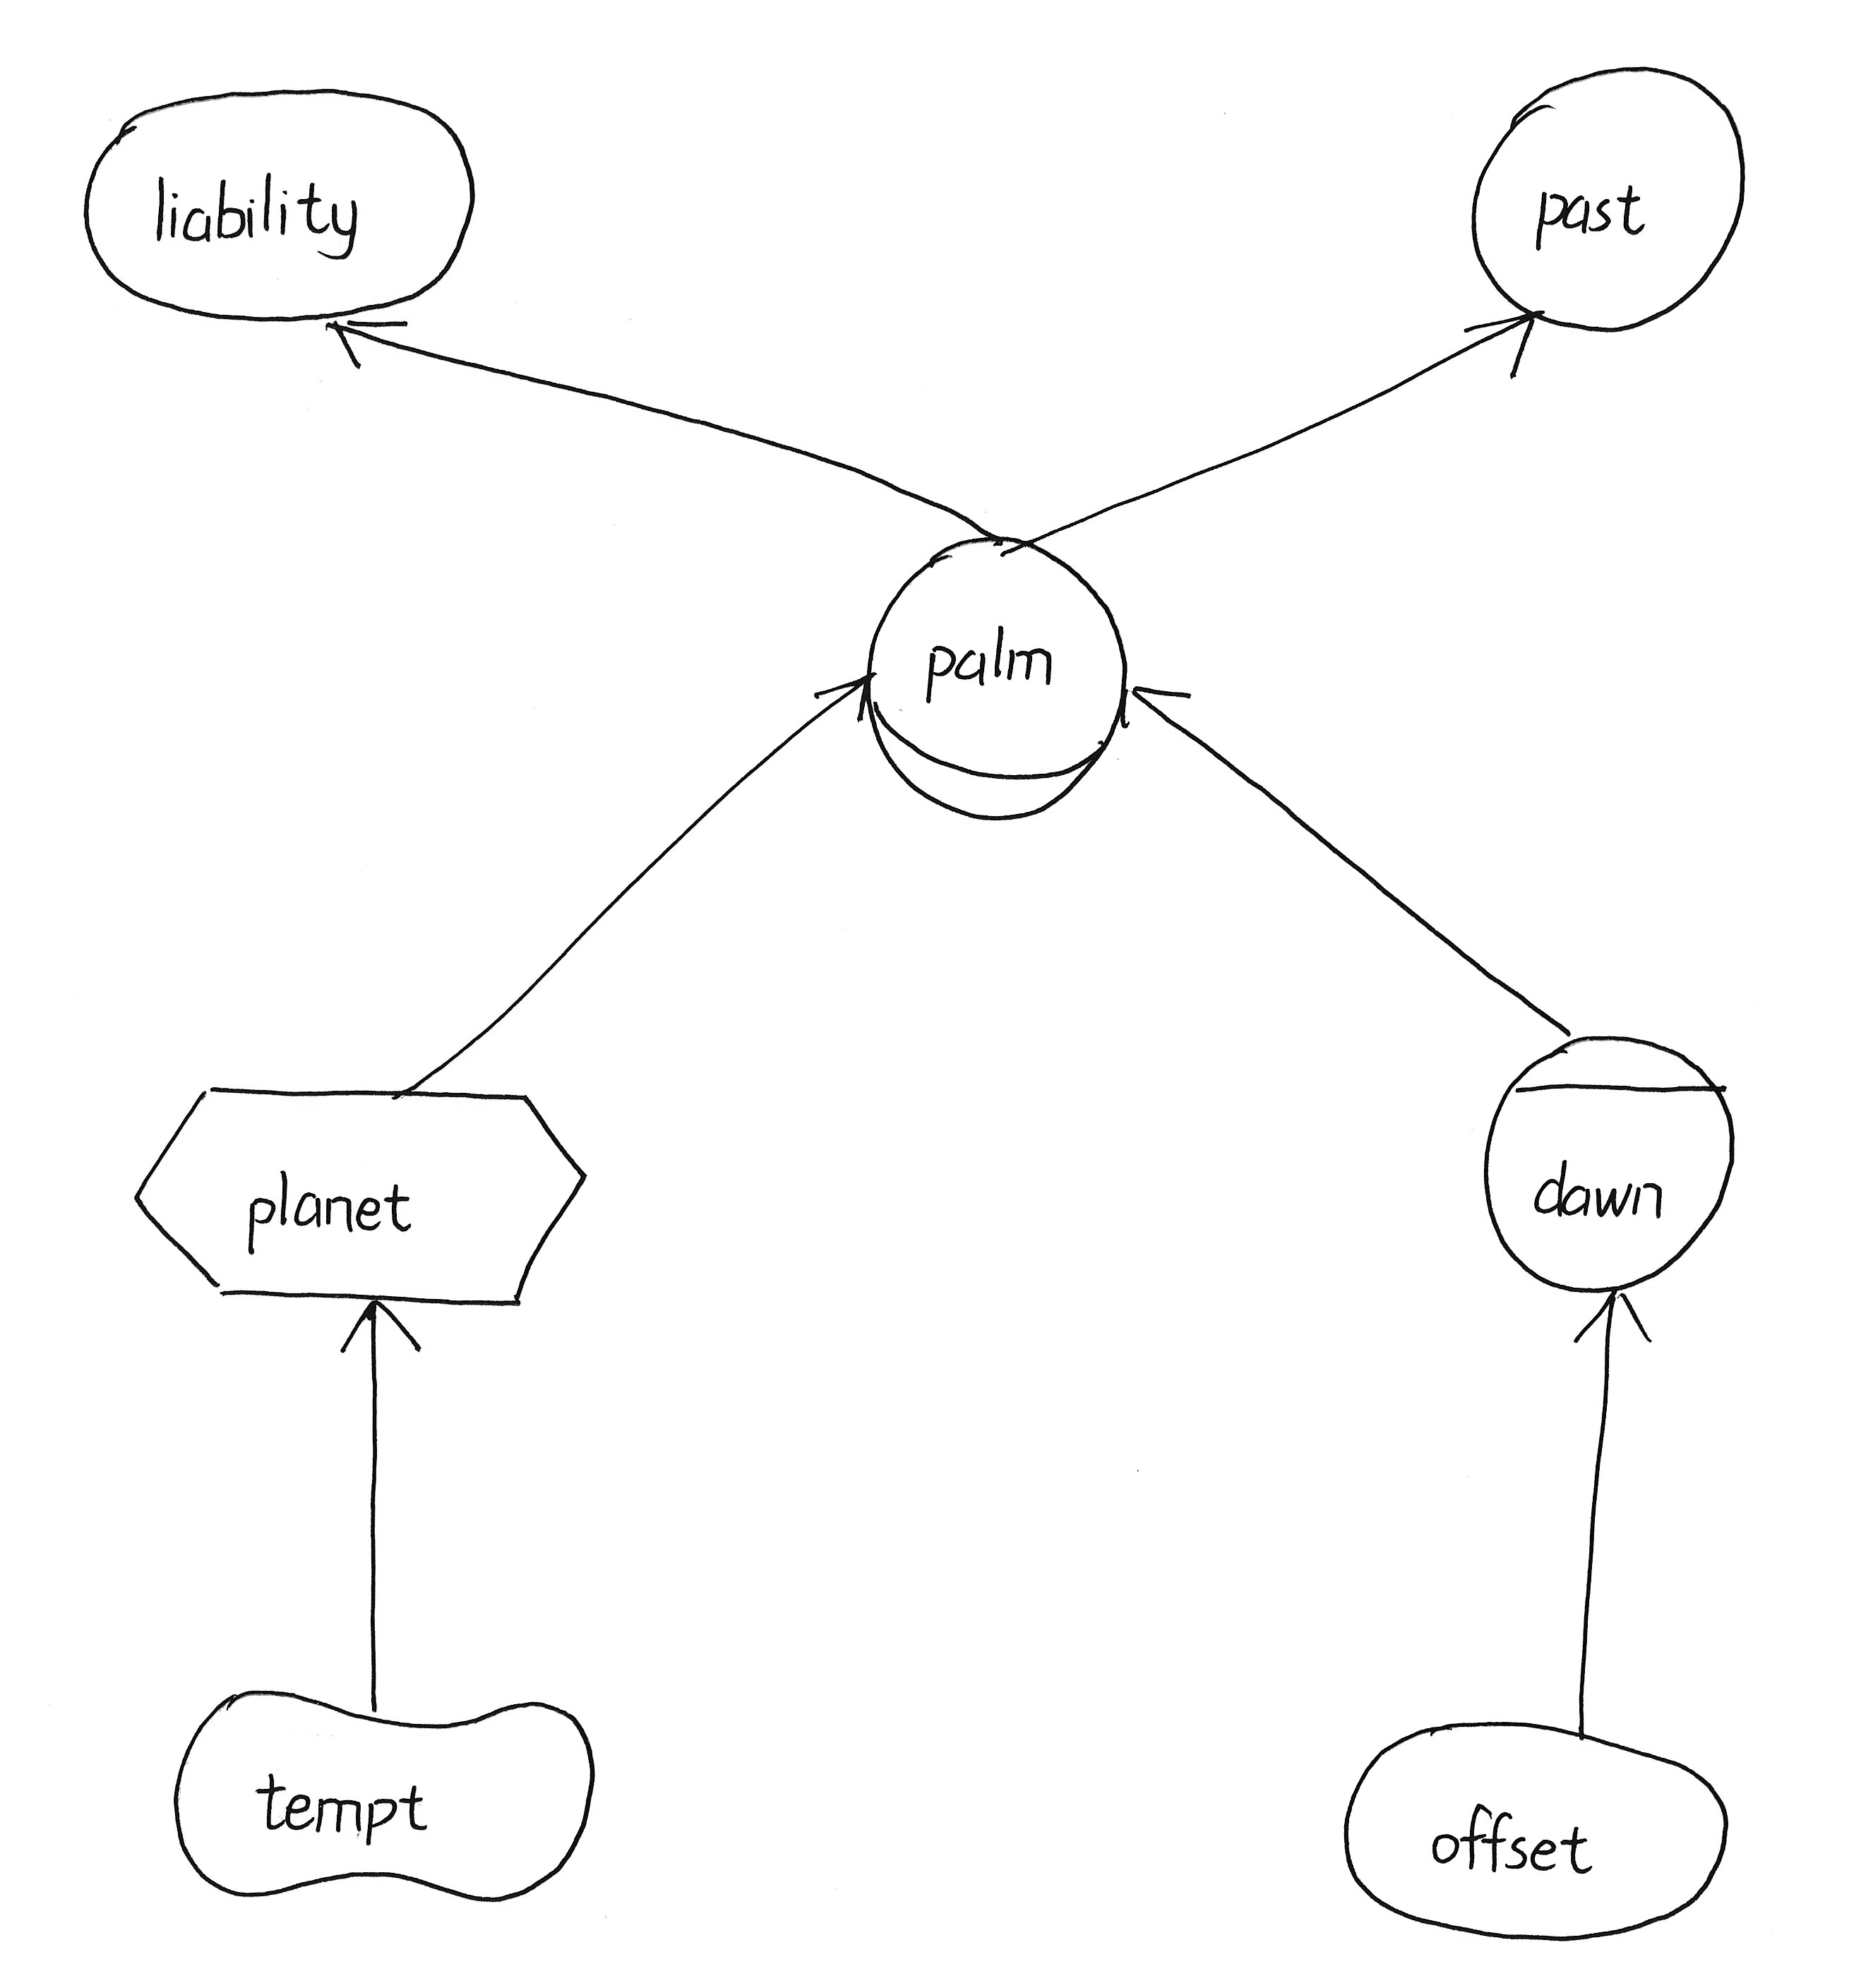actor: (1451, 45, 1762, 348)
agent: (1465, 1015, 1748, 1312)
arrow: (1453, 297, 1557, 386), (315, 301, 419, 389), (328, 1288, 436, 1371), (1103, 662, 1203, 747), (801, 652, 881, 745), (1567, 1282, 1663, 1361)
goal: (63, 73, 490, 335), (1326, 1703, 1748, 1952)
quality: (151, 1670, 610, 1920)
role: (845, 518, 1142, 841)
task: (118, 1064, 622, 1329)
